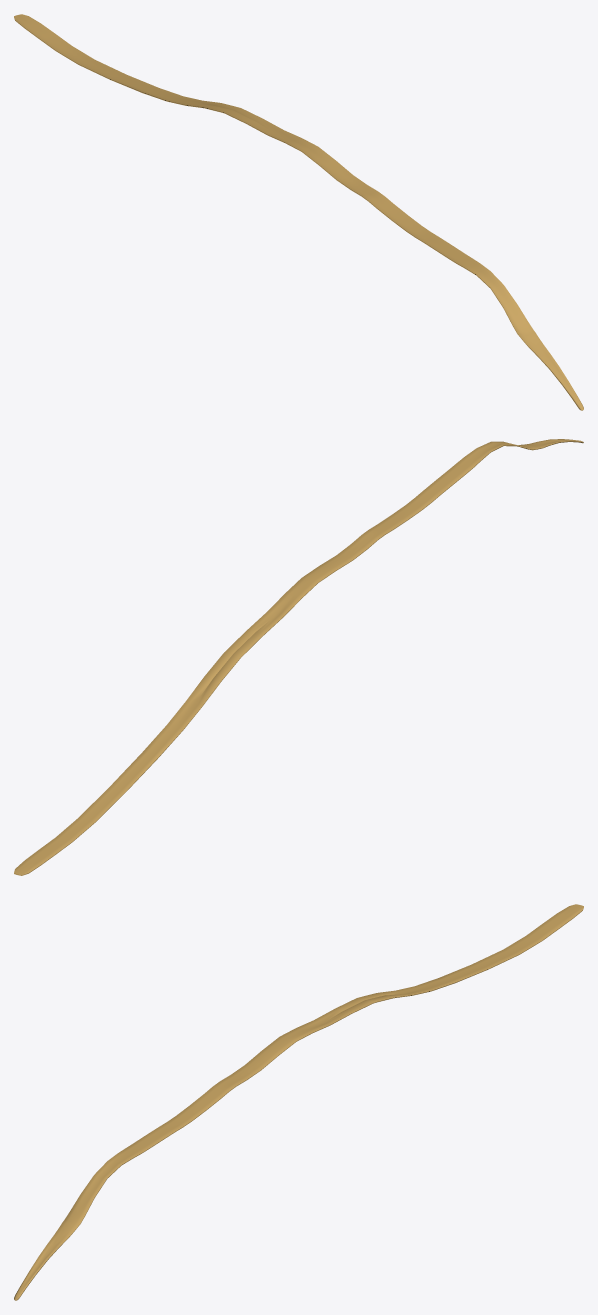
3 renders of one model, top to bottom at view 1: azimuth 30°, elevation 25°; view 2: azimuth 150°, elevation 25°; view 3: azimuth 330°, elevation 25°, orthographic.
Parts seen in each view (by area): view 1: 棘上韧带; view 2: 棘上韧带; view 3: 棘上韧带.
Part boxes in pixels (box(x1,y1,x2,y2)): 棘上韧带: box(14, 14, 583, 410); 棘上韧带: box(14, 439, 583, 875); 棘上韧带: box(14, 904, 583, 1300).
Size of the model in its own units: 0.0114 by 0.054 by 0.6566.
